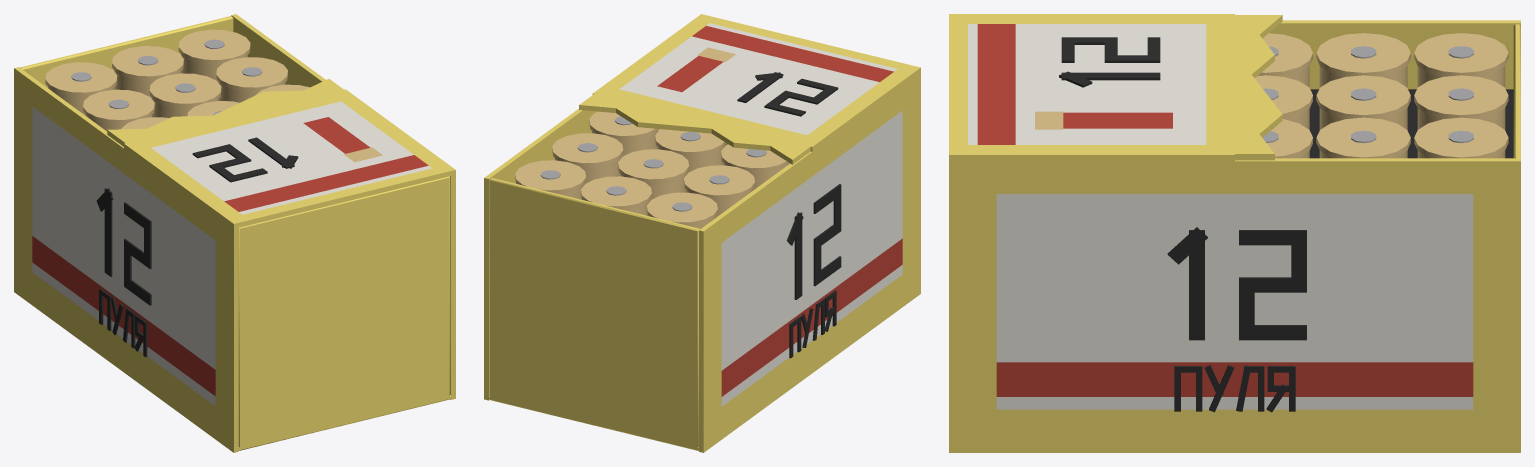
File: ammo_12ga_slug.glb
3 renders of one model, left to right at view 1: azimuth 30°, elevation 25°; view 2: azimuth 150°, elevation 25°; view 3: azimuth 270°, elevation 25°, orthographic. The views are drawn at different scales.
Visible parts, largest first — view 1: body; view 2: body; view 3: body.
Part boxes in pixels (x1,y1,x2,y2): body: [14, 14, 455, 452]; body: [484, 14, 920, 452]; body: [949, 14, 1520, 452].
Bounding box in the file's own units: 0.071 × 0.0695 × 0.12.
